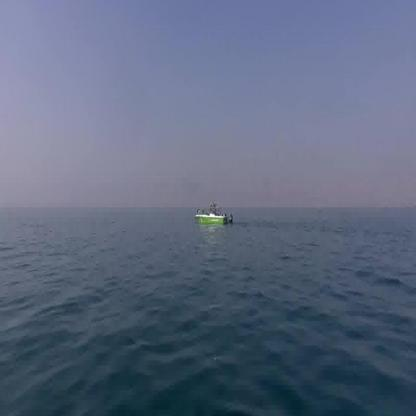Boat: (195, 202, 228, 229)
